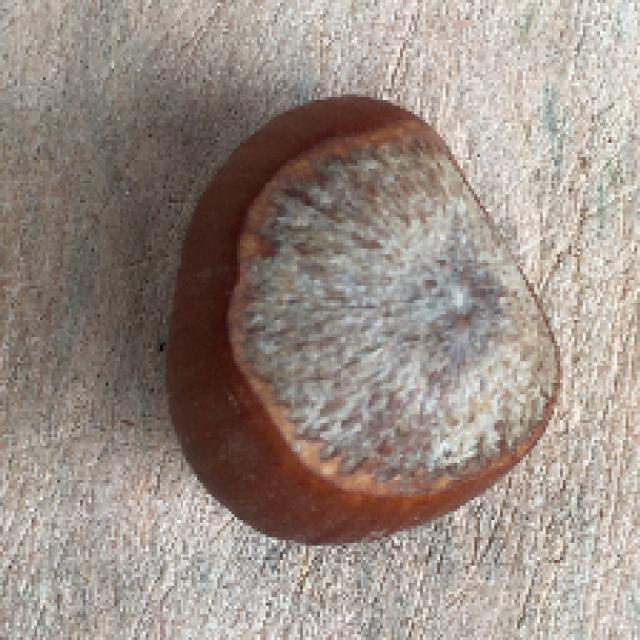qualityHazelnut: (162, 95, 566, 548)
